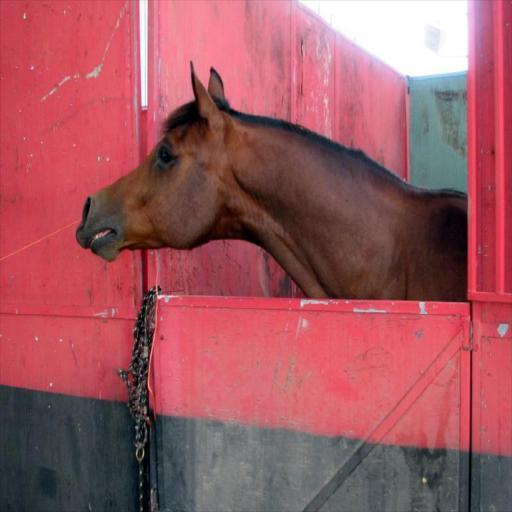horse: (75, 60, 468, 302)
